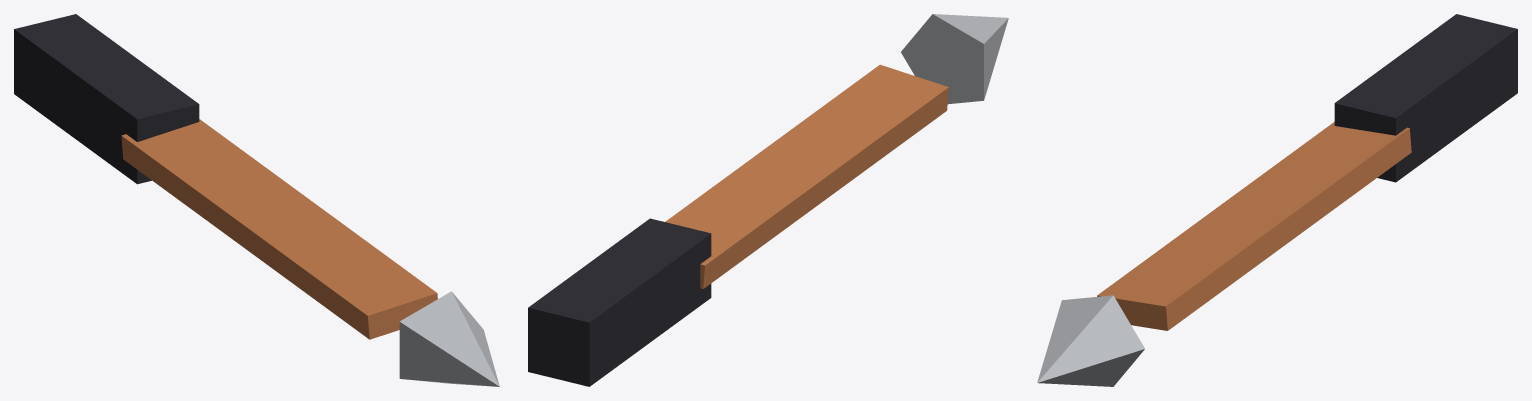
File: scrap_blade.glb
3 renders of one model, left to right at view 1: azimuth 30°, elevation 25°; view 2: azimuth 150°, elevation 25°; view 3: azimuth 330°, elevation 25°, orthographic.
Visible parts, largest first — view 1: blade, grip, tip; view 2: blade, grip, tip; view 3: blade, grip, tip.
Part boxes in pixels (x1,y1,x2,y2): blade: (121,119,437,339); grip: (14,14,199,184); tip: (399,291,499,386); blade: (665,64,948,288); grip: (528,218,711,386); tip: (901,14,1008,104); blade: (1097,122,1411,330); grip: (1334,14,1517,182); tip: (1037,295,1144,386).
Size of the model in its own units: 0.2171 by 0.2283 by 2.03.
